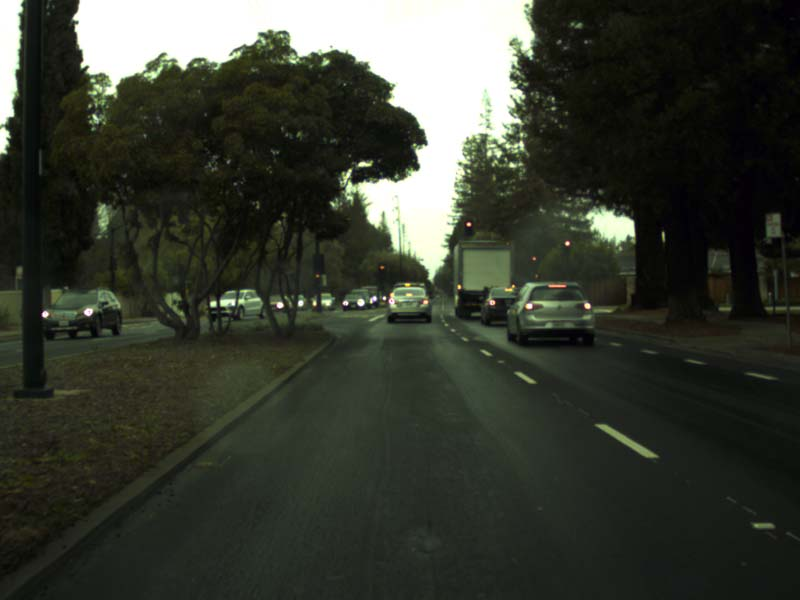Red: (379, 262, 386, 279), (464, 219, 472, 233), (314, 270, 319, 289), (531, 254, 537, 266), (564, 239, 569, 253)
